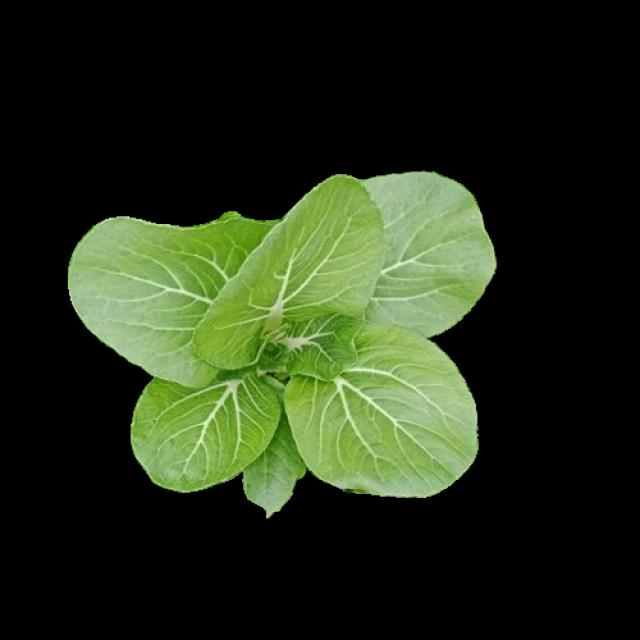healthy: (66, 168, 492, 502)
mature: (69, 170, 494, 504)
